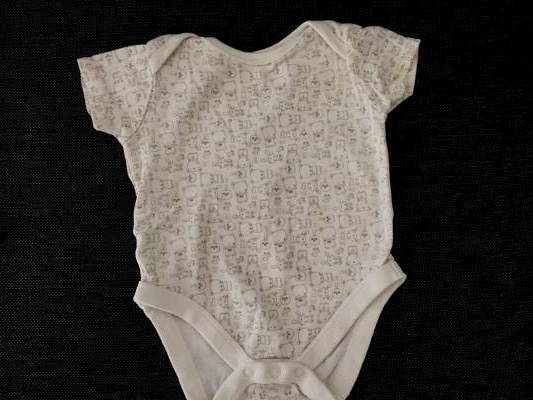Body: (76, 11, 436, 396)
